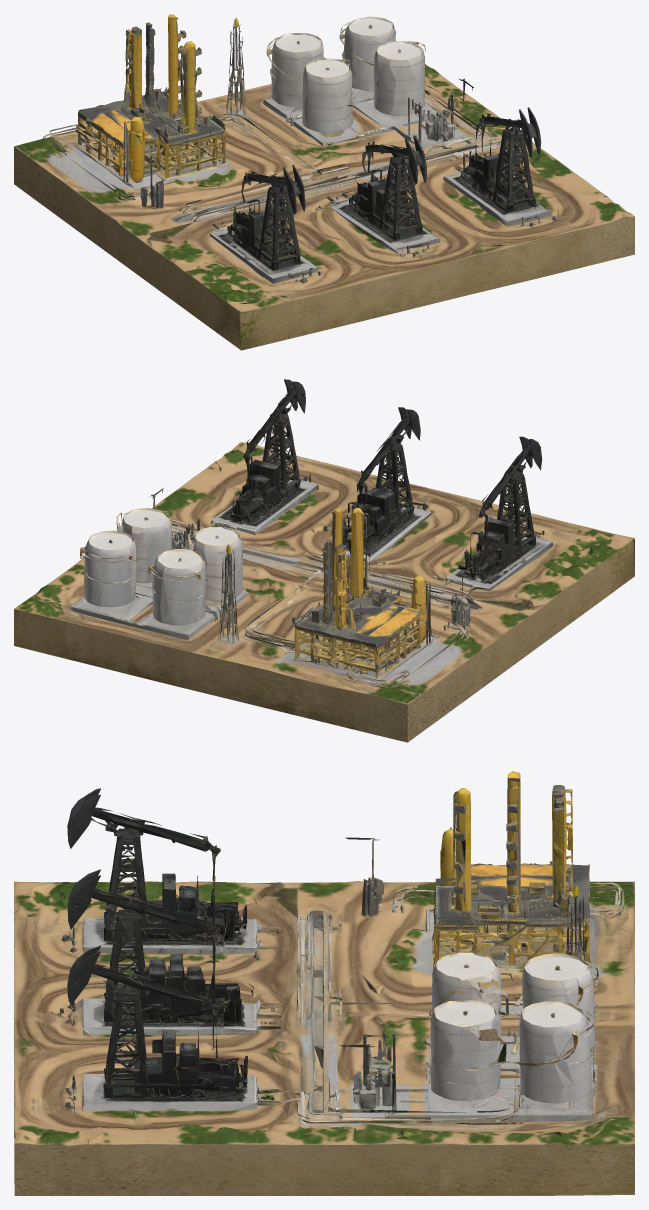
Rendered from слой_04_наземка.glb.
3 renders of one model, top to bottom at view 1: azimuth 30°, elevation 25°; view 2: azimuth 150°, elevation 25°; view 3: azimuth 270°, elevation 25°, orthographic. The views are drawn at different scales.
Bounding box in the file's own units: 1.9 × 0.8129 × 1.9.
Materials: 1 (1 with a texture image).
